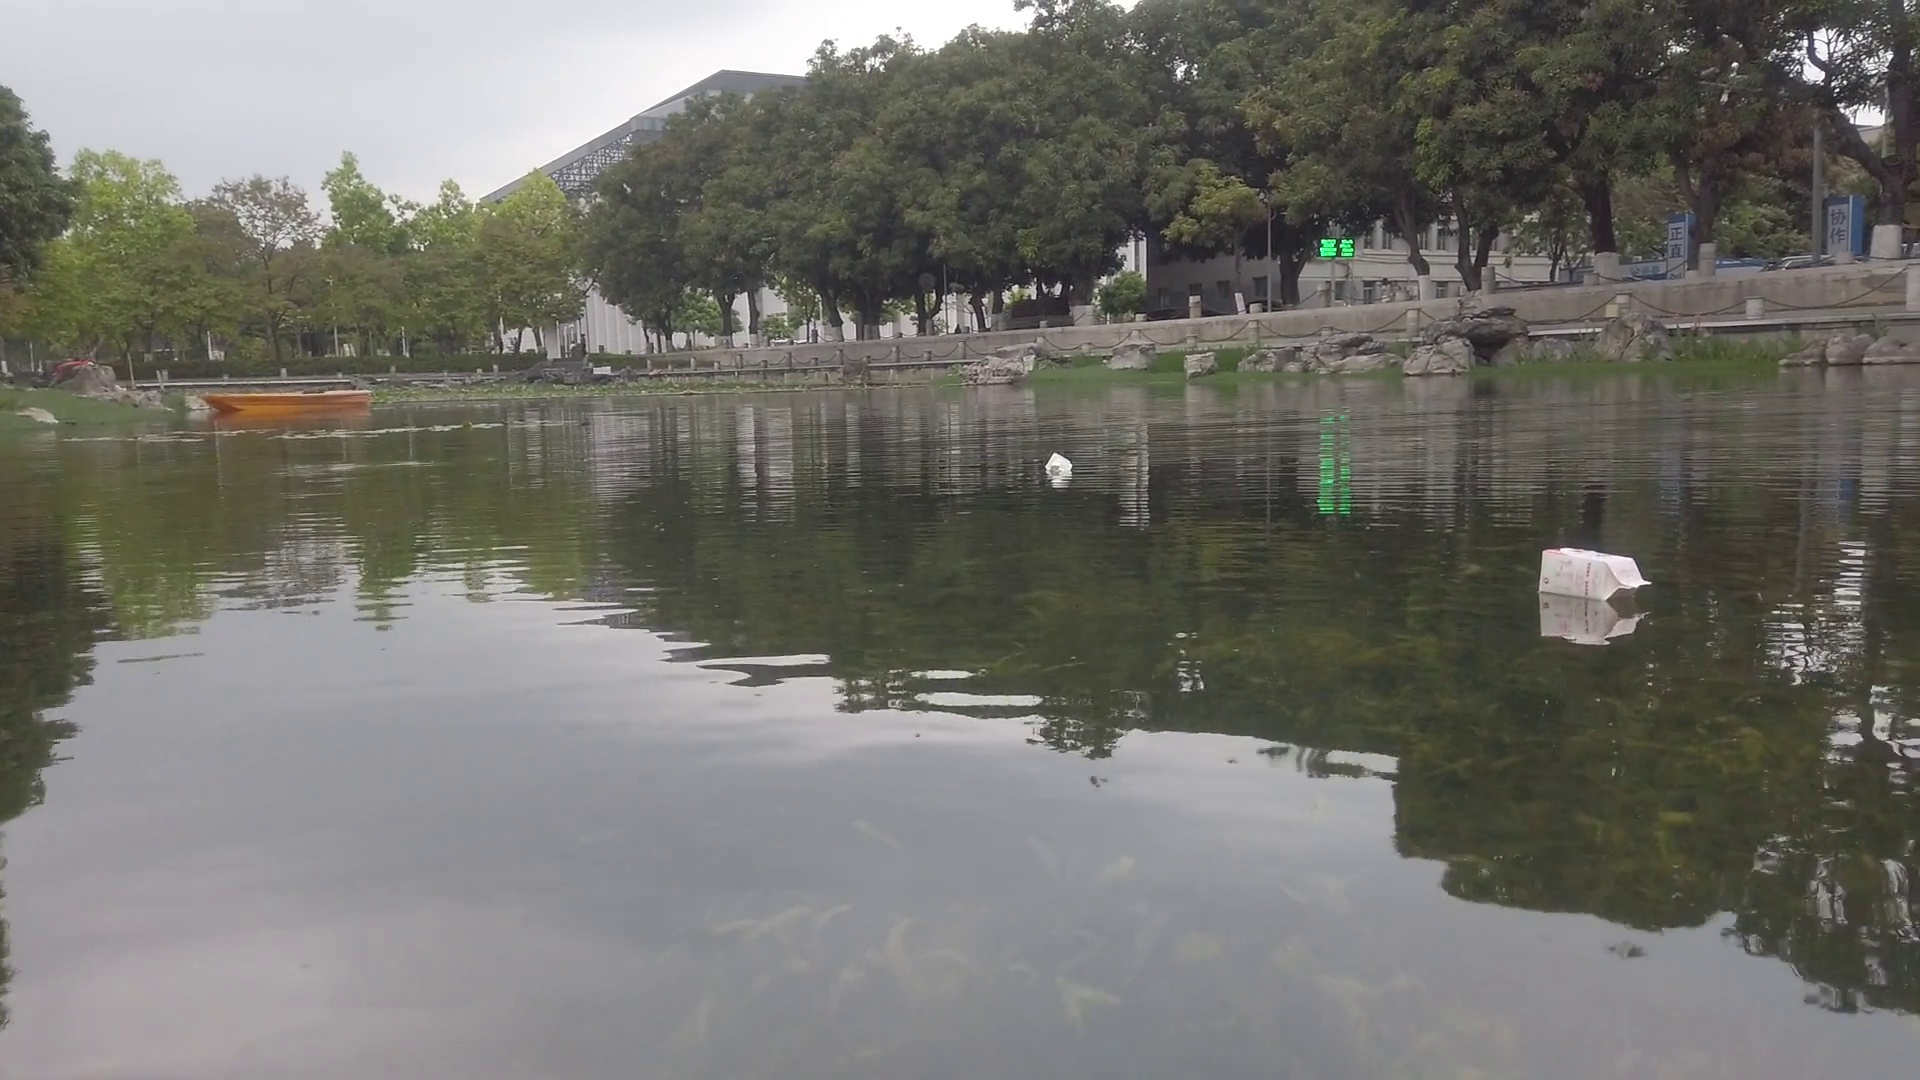carton: (1538, 545, 1652, 605), (1042, 452, 1073, 481)
